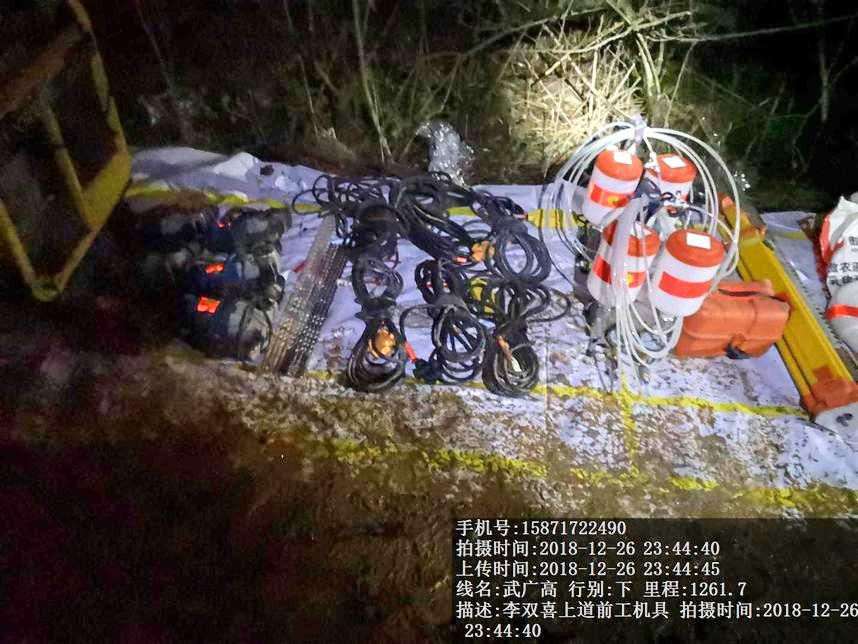DX: (408, 257, 486, 390), (485, 277, 566, 397), (346, 263, 411, 396)
